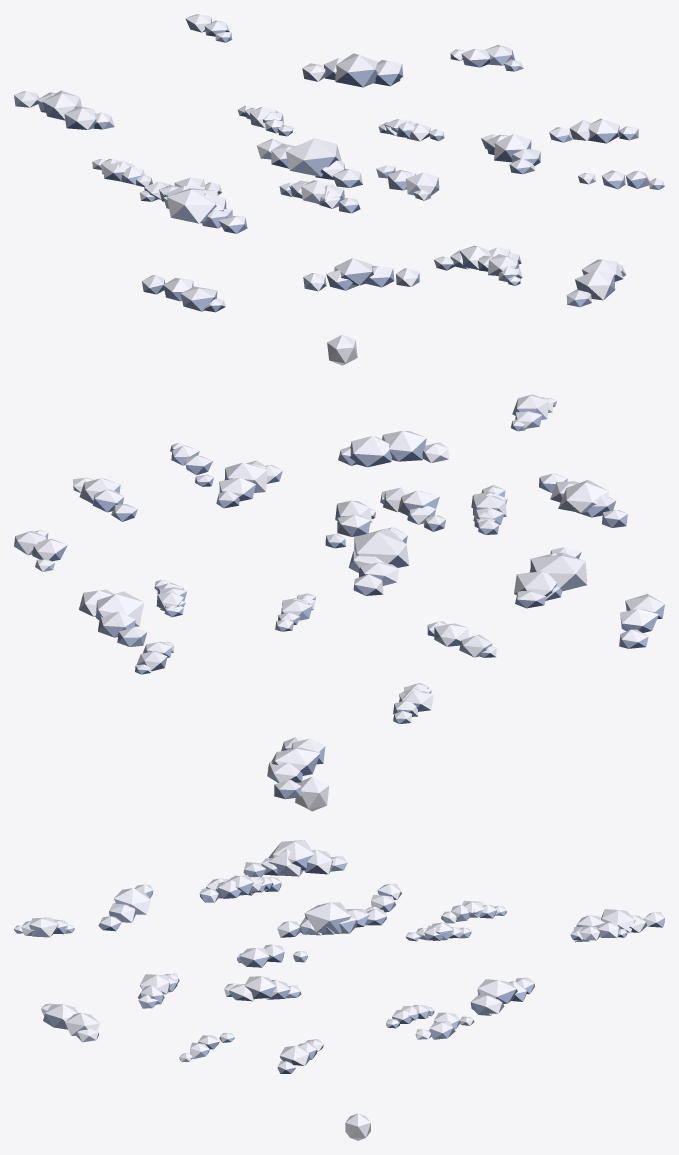
Rendered from Sky.fbx.
3 views of the same model, one above another, from view 1: azimuth 30°, elevation 25°; view 2: azimuth 150°, elevation 25°; view 3: azimuth 270°, elevation 25° (orthographic). The views are drawn at different scales.
Parts seen in each view (by area): view 1: Clouds, Sun; view 2: Clouds, Sun; view 3: Clouds, Sun.
Boxes of the visible parts, x1=… form: Clouds: x1=14, y1=14, x2=664, y2=312; Sun: x1=327, y1=334, x2=357, y2=365; Clouds: x1=14, y1=394, x2=664, y2=799; Sun: x1=295, y1=777, x2=329, y2=811; Clouds: x1=14, y1=840, x2=664, y2=1073; Sun: x1=345, y1=1113, x2=370, y2=1140.
Size of the model in its own units: 405 by 197 by 514.
